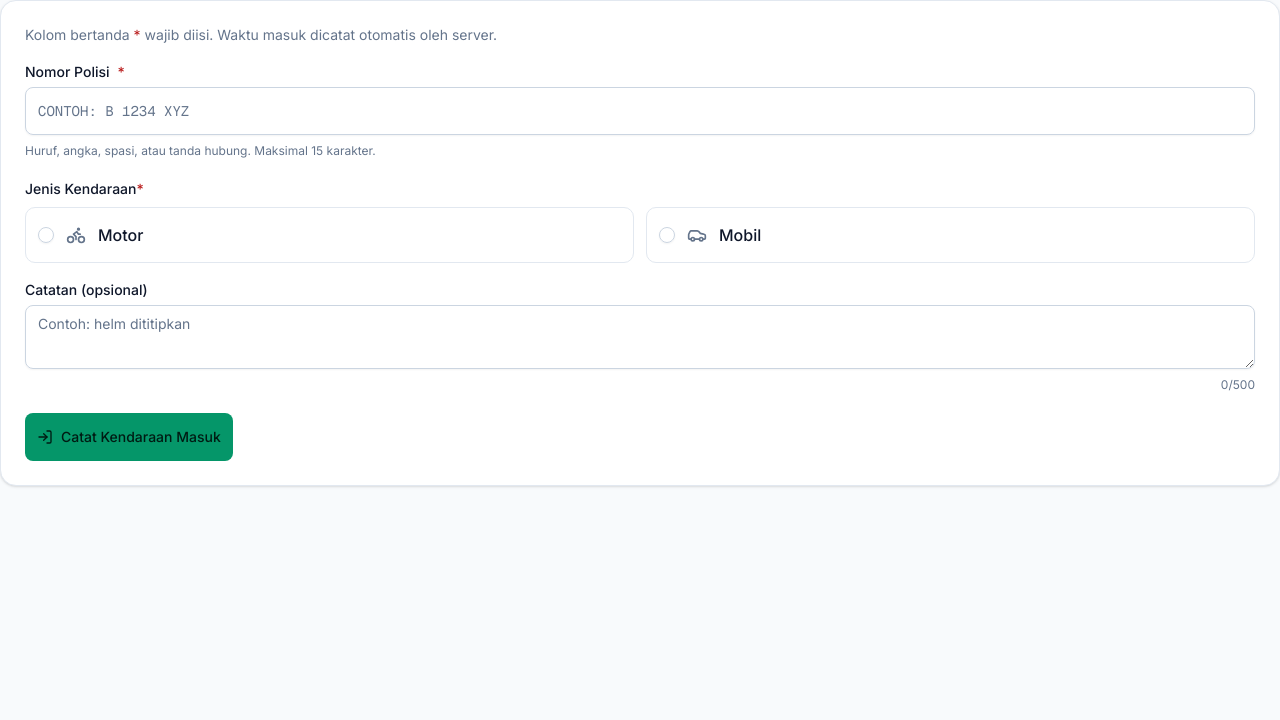
it: unknown outcome (P4.7): never success, never 'not recorded' › an unconfirmed commit from the server shows the check-the-list instruction
Type " b  1234  xyz" into the field labelled "Nomor Polisi *". click: (640, 111)
box: [25,87,1255,135]
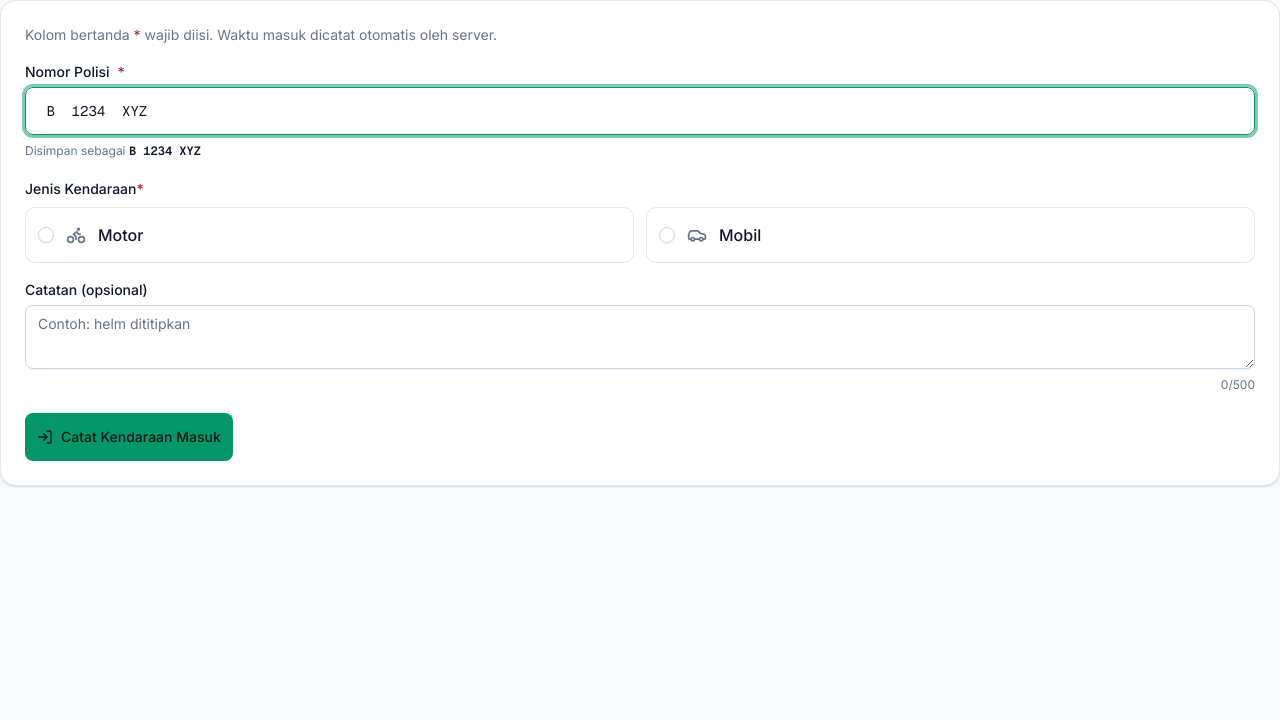
Click the radio button named "Mobil" next to "Mobil". click: (667, 235)
box: [659,227,675,243]
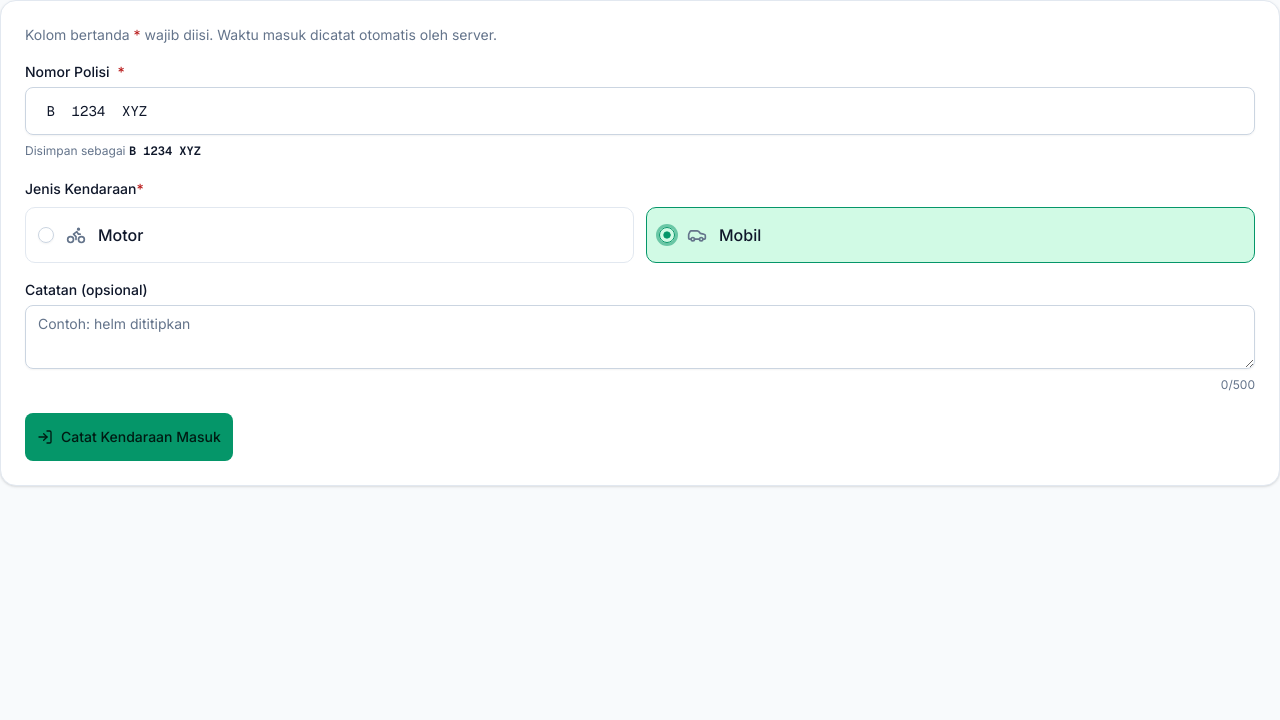
Click the button "Catat Kendaraan Masuk". click: (129, 437)
box: [25,413,233,461]
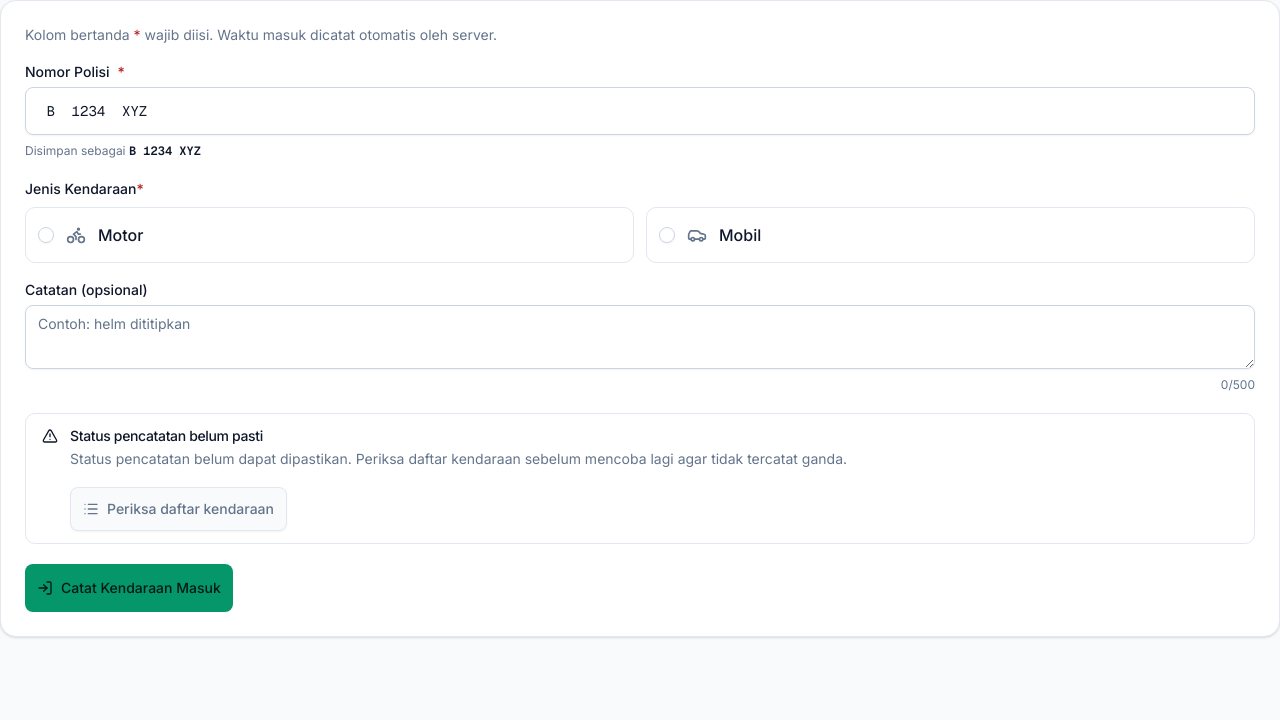
Check: the message shows "Status pencatatan belum pasti", box [70,427,263,444]
Check: the message shows "belum dapat dipastikan", box [70,450,847,467]
